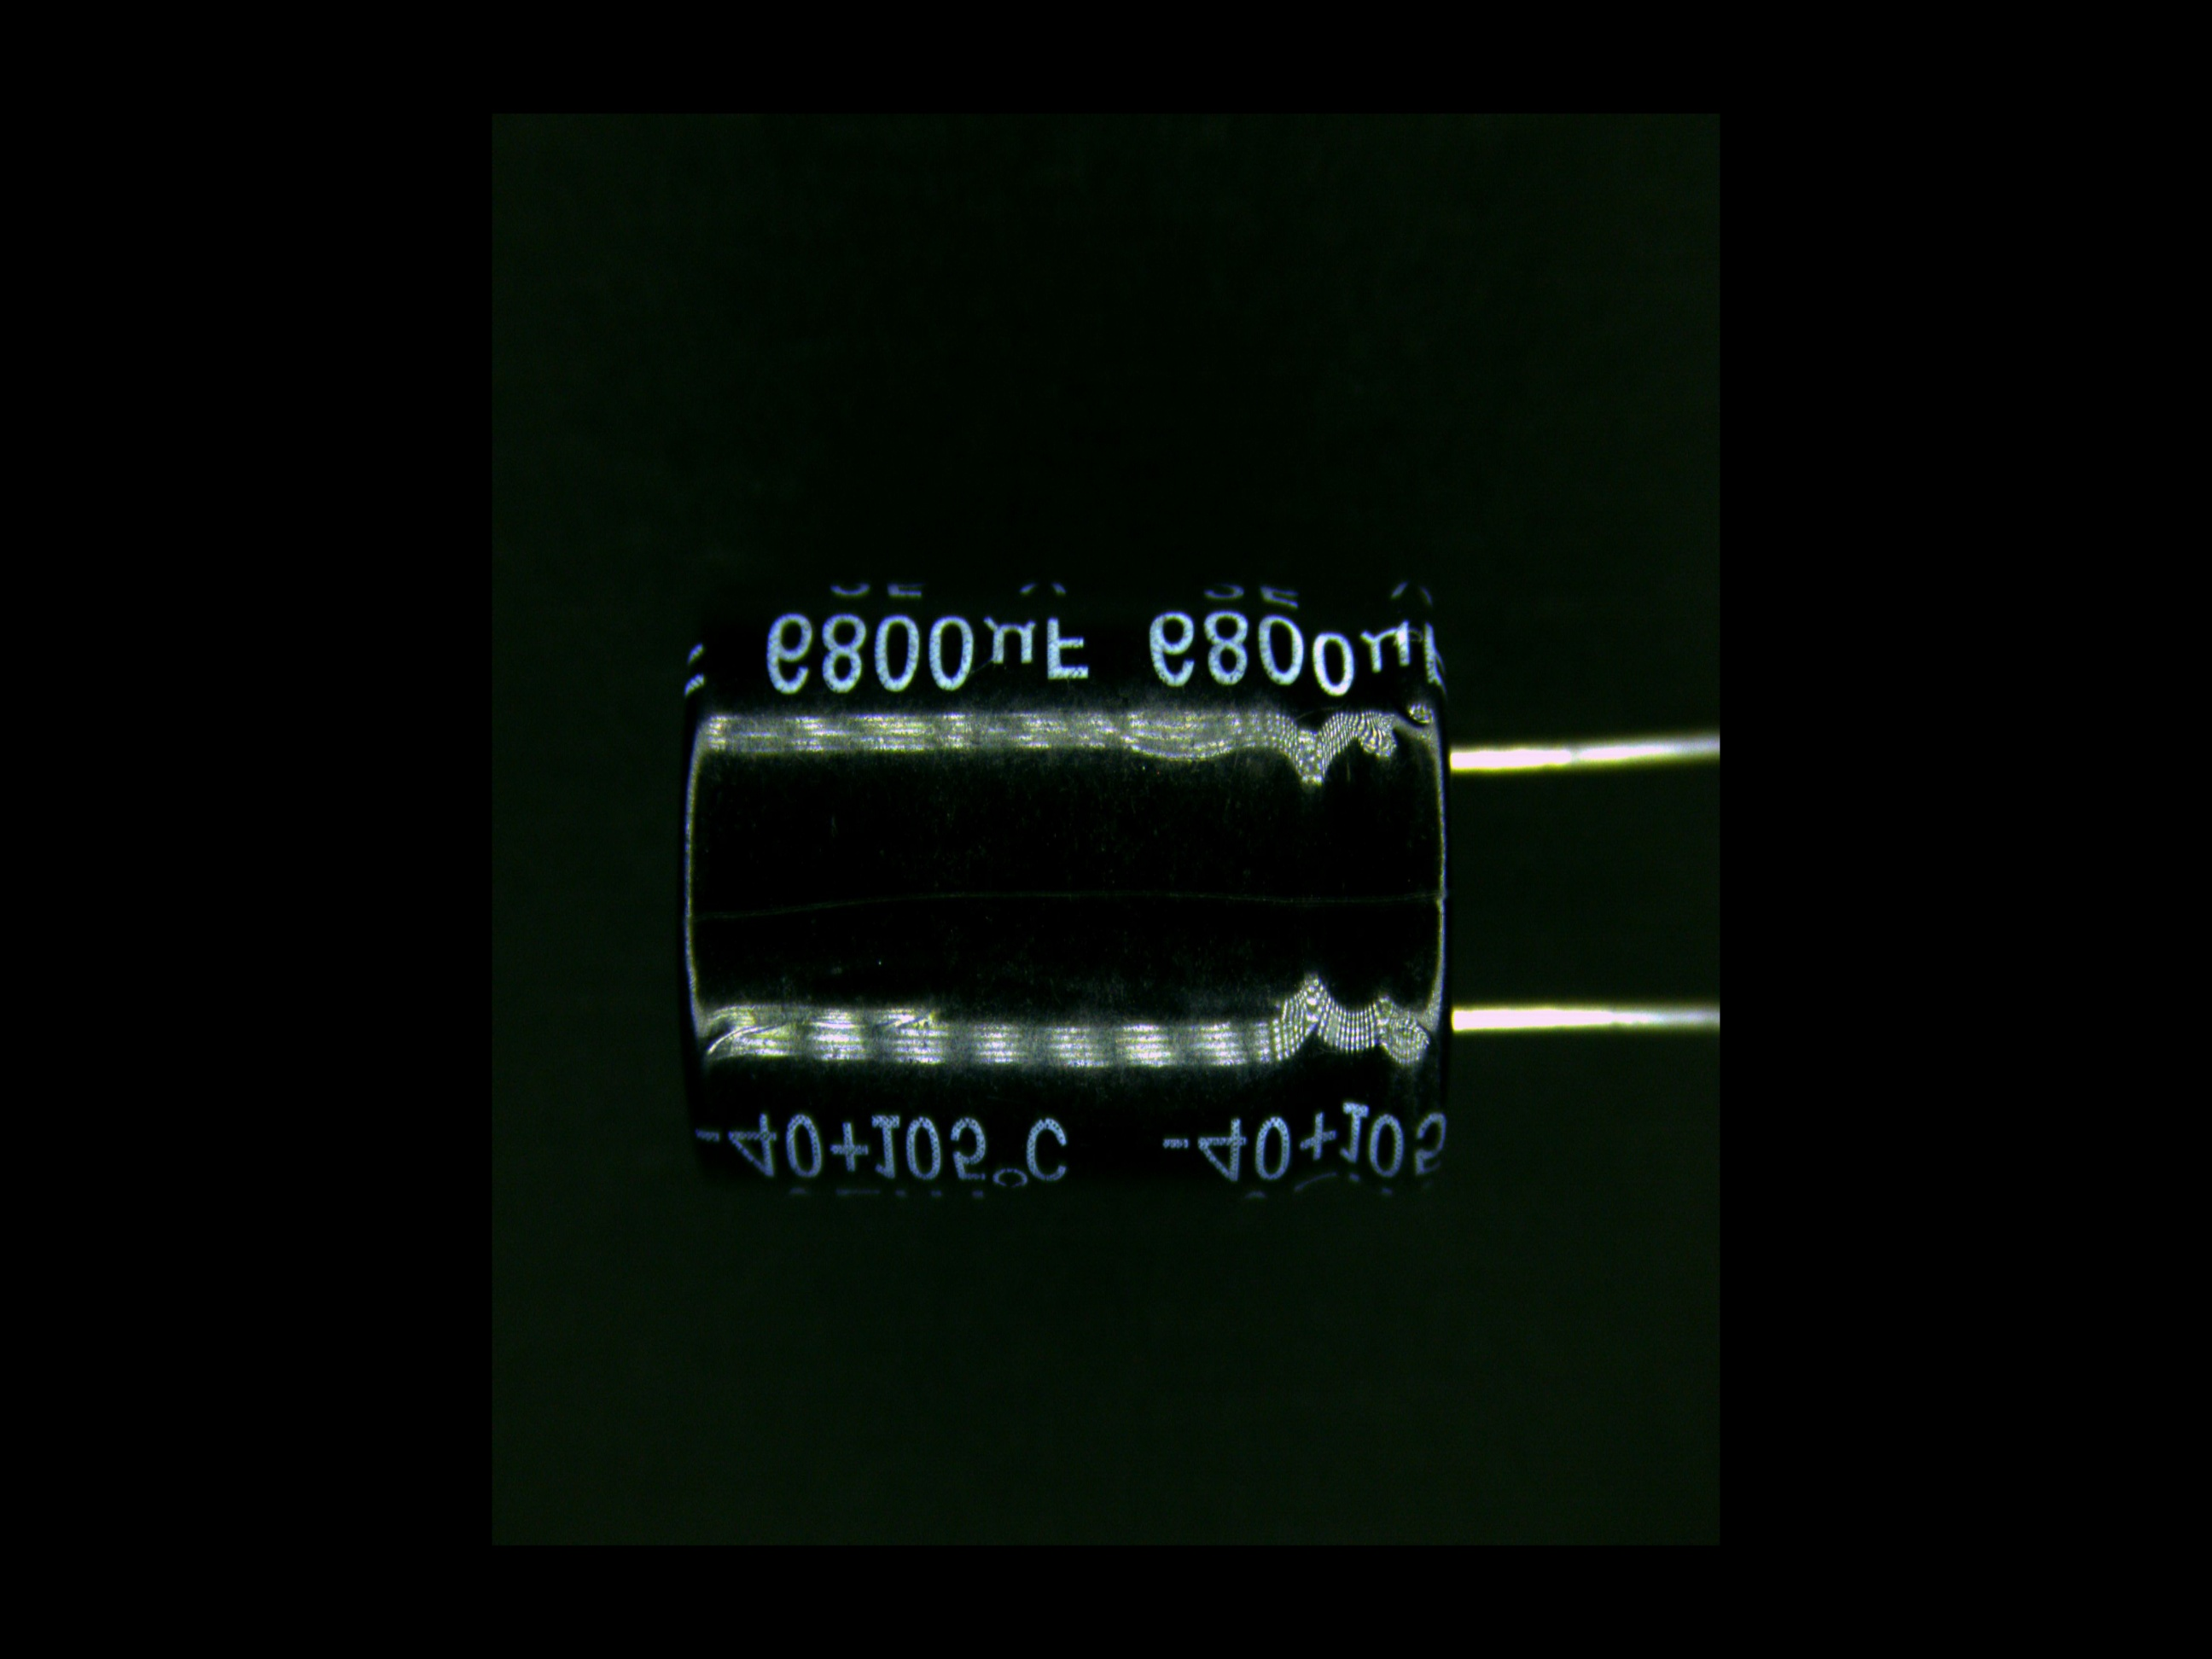c3: (669, 568, 1625, 1201)
